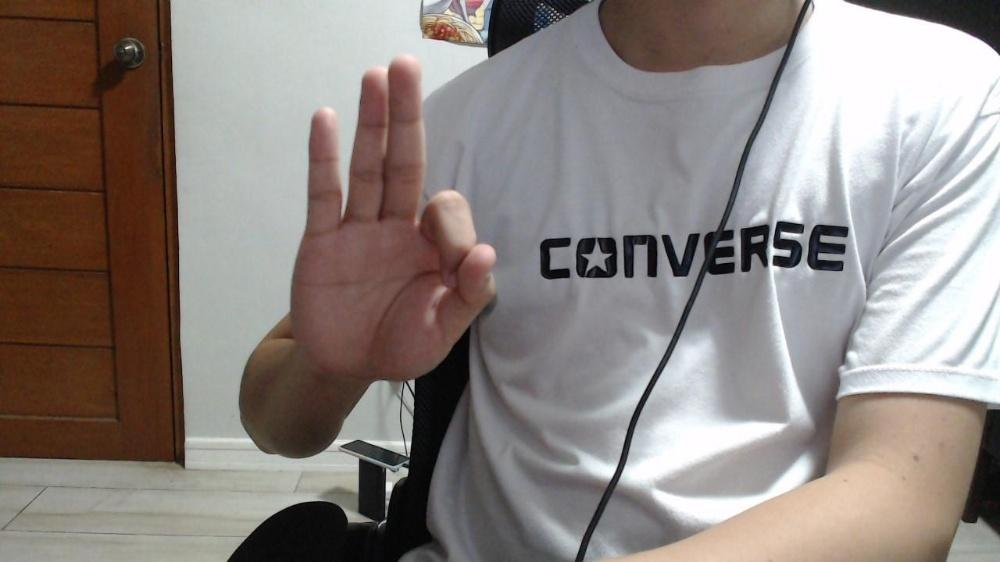f: (288, 54, 497, 381)
